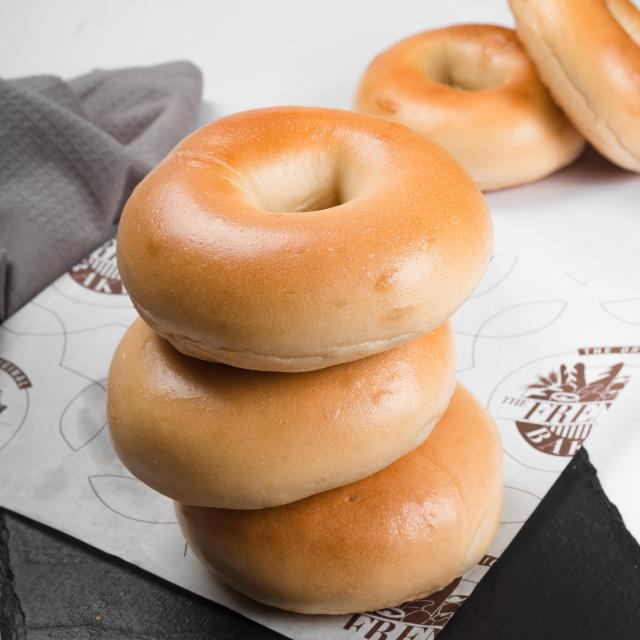Bagel: (118, 106, 492, 371), (352, 24, 585, 190), (499, 94, 500, 95)
